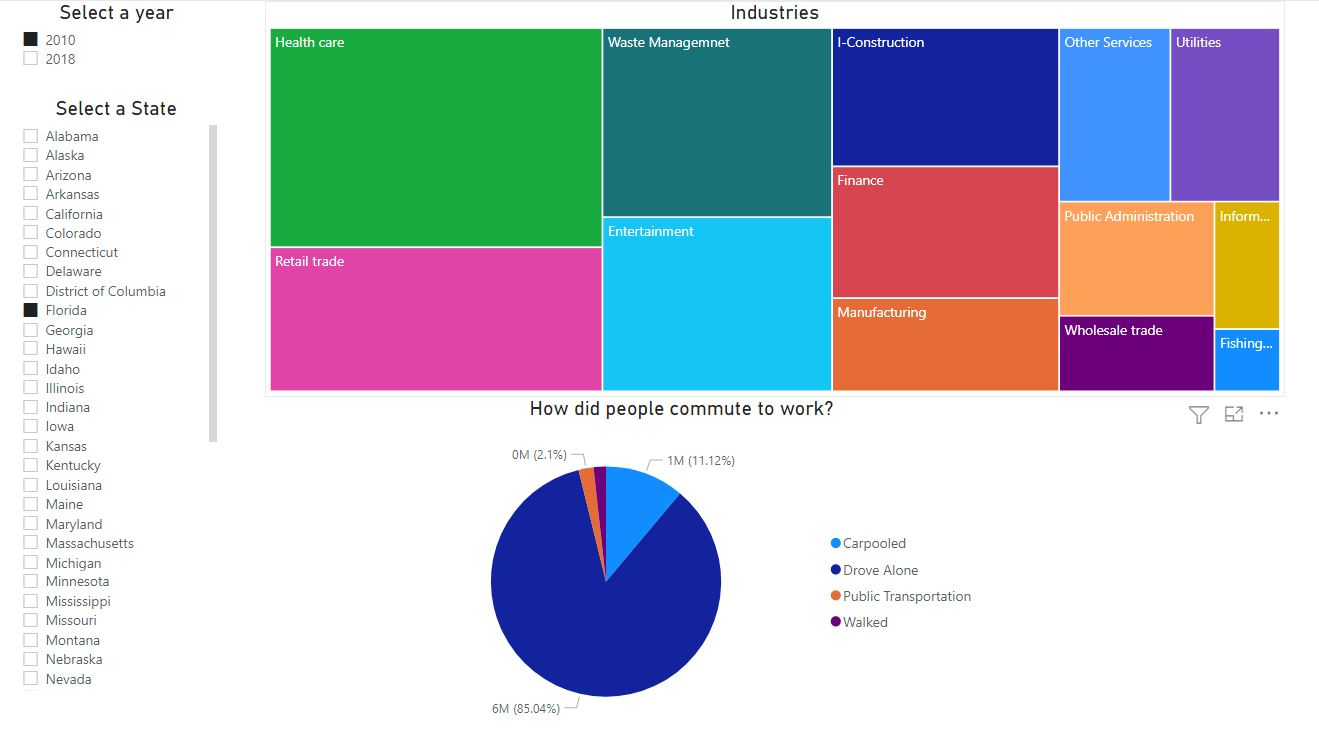

What the dashboard file says about the page in this screenshot:
{"tool":"powerbi","page":{"name":"Page 2","canvas":[1280,720],"ordinal":1},"visuals":[{"type":"slicer","title":"Select a year","fields":{"Values":["Final.Year"]},"box":[9.5,0,206.7,77],"z":0},{"type":"slicer","title":"Select a State","fields":{"Values":["Final.State"]},"box":[9.5,93.6,206.2,580.5],"z":1000},{"type":"pieChart","title":"How did people commute to work?","fields":{"Y":["Sum(Final.Carpooled)","Sum(Final.Drove Alone)","Sum(Final.Public Transportation)","Sum(Final.Walked)"]},"box":[366.1,383.6,590.3,336.4],"z":2000},{"type":"treemap","title":"Industries","fields":{"Values":["Sum(Final.Fishing, Hunting, Mining)","Sum(Final.I-Construction)","Sum(Final.Manufacturing)","Sum(Final.Wholesale trade)","Sum(Final.Retail trade)","Sum(Final.Utilities)","Sum(Final.Information)","Sum(Final.Finance)","Sum(Final.Waste Managemnet)","Sum(Final.Health care)","Sum(Final.Entertainment)","Sum(Final.Other Services)"]},"box":[256.7,0,988.8,383.6],"z":3000}]}

Visuals, with their boxes in screenshot pixels (x1, y1, x2, y2), scaled from the page's 1280x720 canvas onto the 1319x740 screenshot:
"Select a year" slicer: Rect(10, 0, 223, 79)
"Select a State" slicer: Rect(10, 96, 222, 693)
"How did people commute to work?" pieChart: Rect(377, 394, 986, 739)
"Industries" treemap: Rect(265, 0, 1283, 394)
